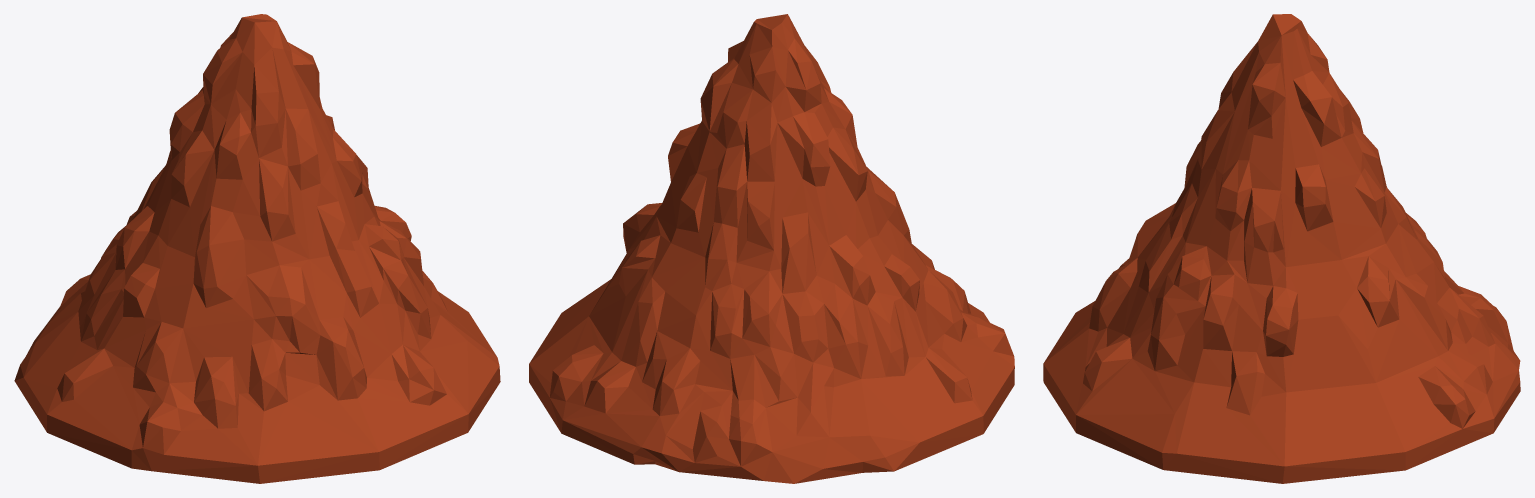
The model's file is SM_roof_cone_01.fbx.
3 renders of one model, left to right at view 1: azimuth 30°, elevation 25°; view 2: azimuth 150°, elevation 25°; view 3: azimuth 270°, elevation 25°, orthographic.
Parts seen in each view (by area): view 1: roof_cone_01; view 2: roof_cone_01; view 3: roof_cone_01.
Part boxes in pixels (x1=…): roof_cone_01: x1=14, y1=14, x2=500, y2=483; roof_cone_01: x1=529, y1=14, x2=1014, y2=483; roof_cone_01: x1=1043, y1=14, x2=1520, y2=483.
Size of the model in its own units: 472 by 391 by 466.
